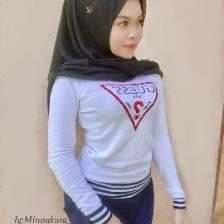Non Syar-i: (56, 1, 164, 84)
